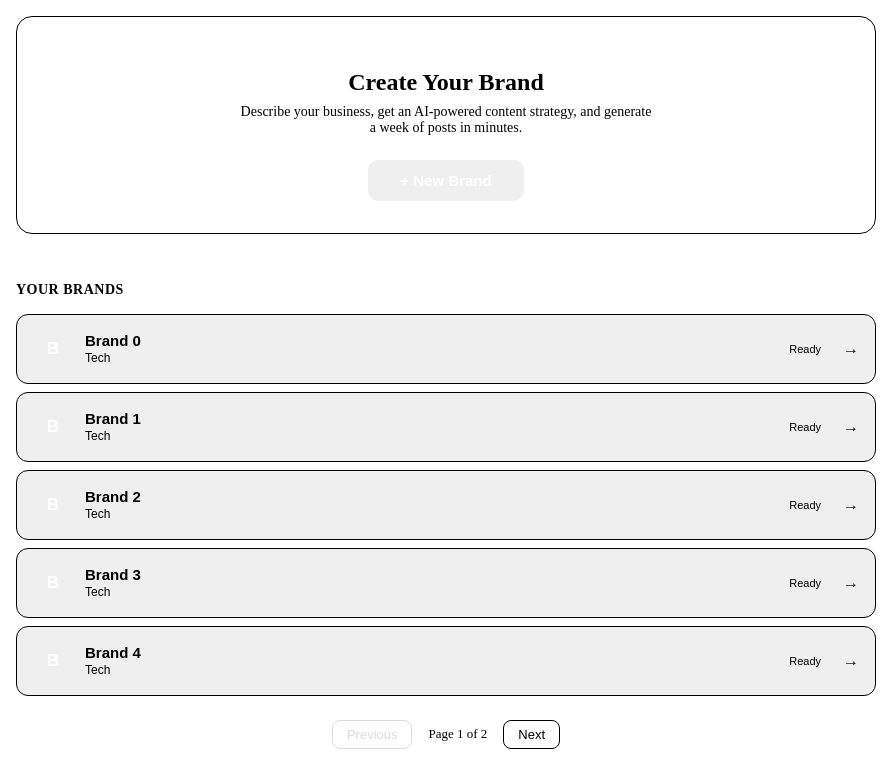
Test case: BrandsPage › navigates back to previous page when Previous is clicked
expect the text "Page 1 of 2" is shown: met, box [428,726,487,742]
What coordinates should you click on to do the following:
click the button "Next"
I would click on:
 (532, 734)
Its box is [503,720,560,749].
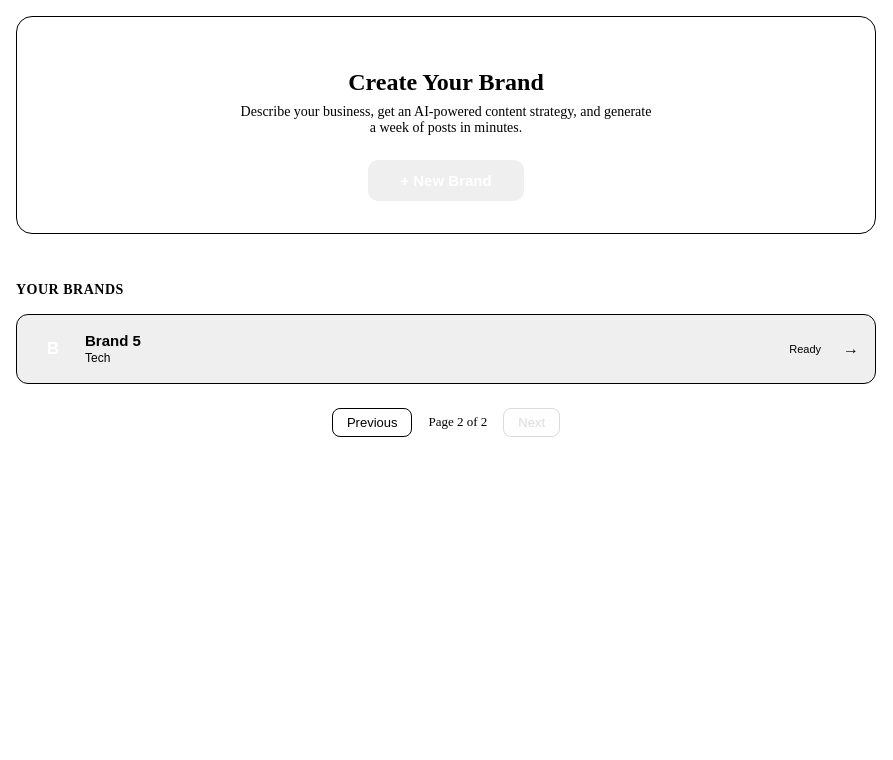
expect the text "Page 2 of 2" is shown: met, box [428,414,487,430]
What coordinates should you click on to do the following:
click the button "Previous"
I would click on:
 (372, 422)
Its box is [332,408,412,437].
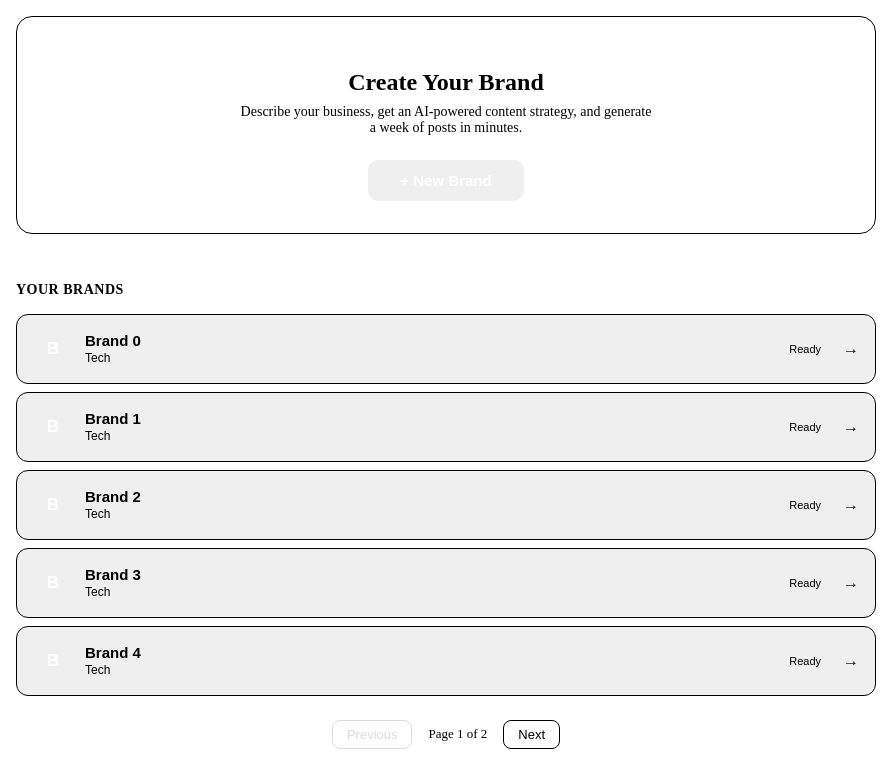
expect the text "Page 1 of 2" is shown: met, box [428,726,487,742]
